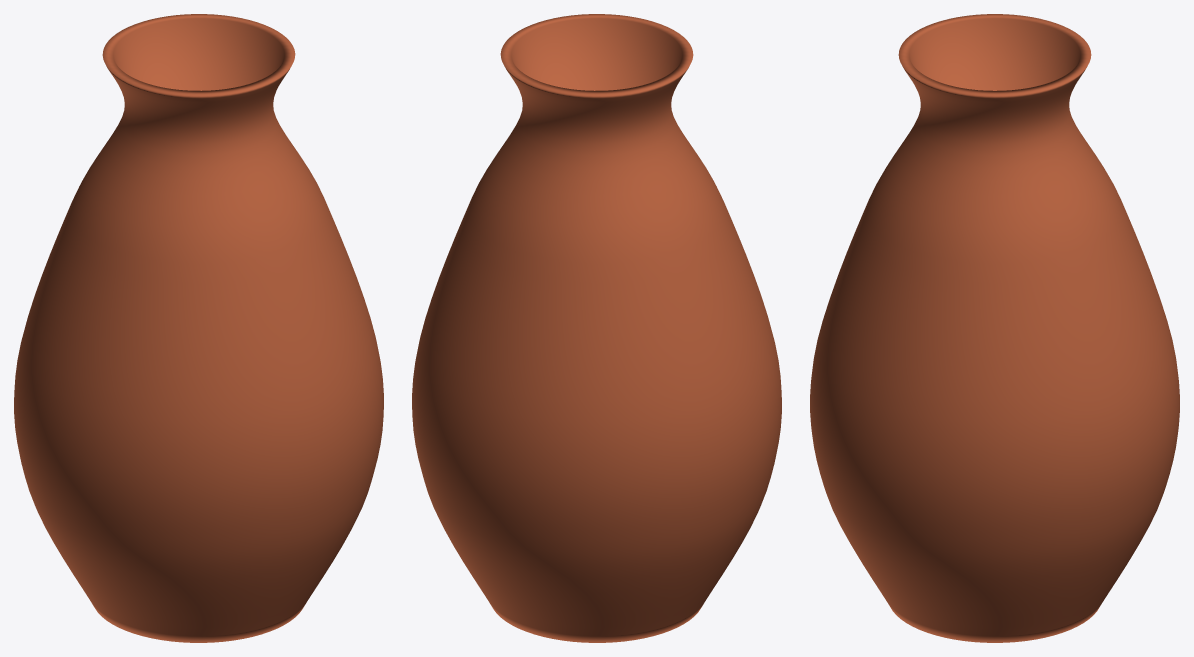
File: vase.glb
3 renders of one model, left to right at view 1: azimuth 30°, elevation 25°; view 2: azimuth 150°, elevation 25°; view 3: azimuth 270°, elevation 25°, orthographic.
Visible parts, largest first — view 1: Vase; view 2: Vase; view 3: Vase.
Part boxes in pixels (x1,y1,x2,y2): Vase: (14,14,383,642); Vase: (412,14,781,642); Vase: (810,14,1179,642).
Bounding box in the file's own units: 0.1729 × 0.28 × 0.1729.
